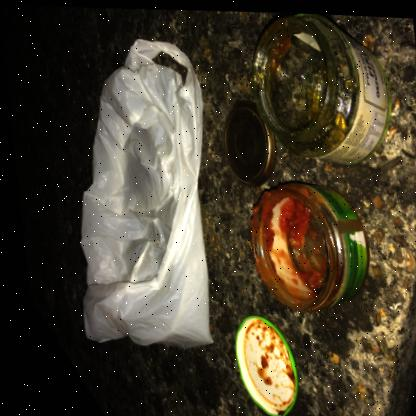Glass: (250, 10, 389, 160), (246, 179, 364, 308)
Metal: (228, 312, 290, 414), (220, 97, 273, 184)
Plastic: (75, 36, 206, 345)
